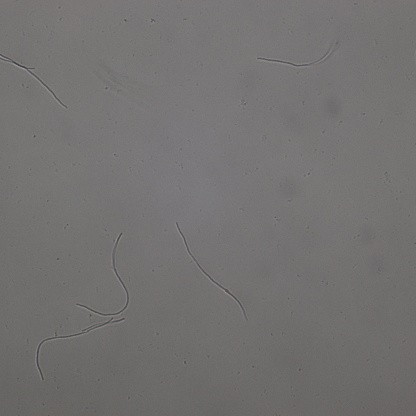Sensitive: (176, 223, 247, 317), (35, 319, 126, 380), (76, 231, 130, 317), (1, 54, 68, 108), (257, 42, 333, 68)
